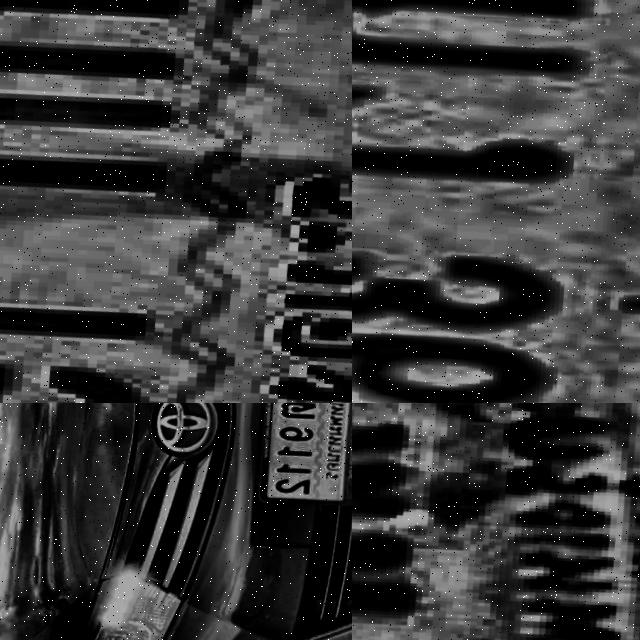license-plate: (0, 0, 352, 403), (352, 0, 640, 403), (352, 403, 640, 640), (232, 403, 352, 533)
